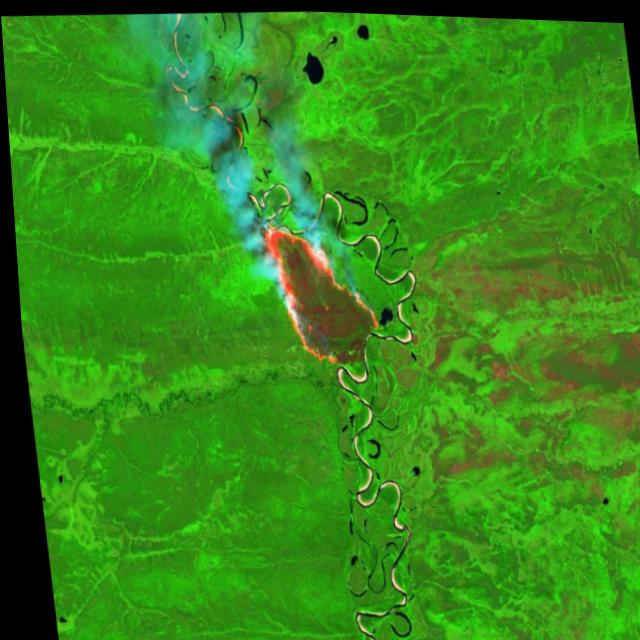fire: (257, 213, 381, 372)
